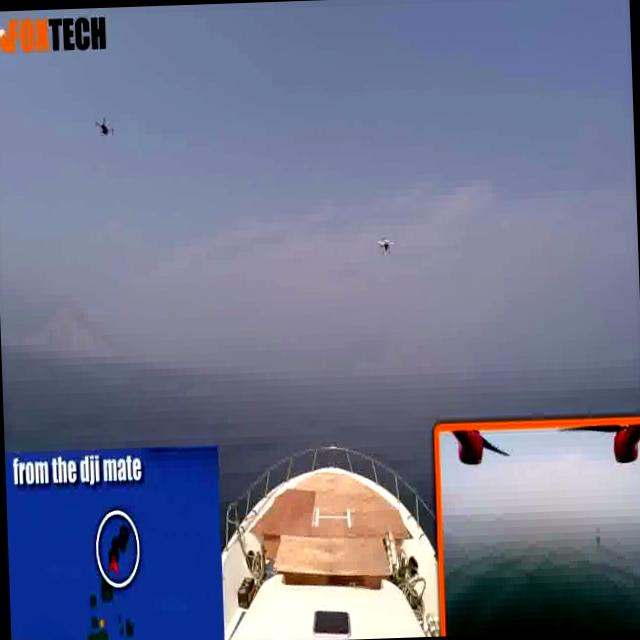drone: (91, 112, 119, 140), (374, 232, 397, 254)
